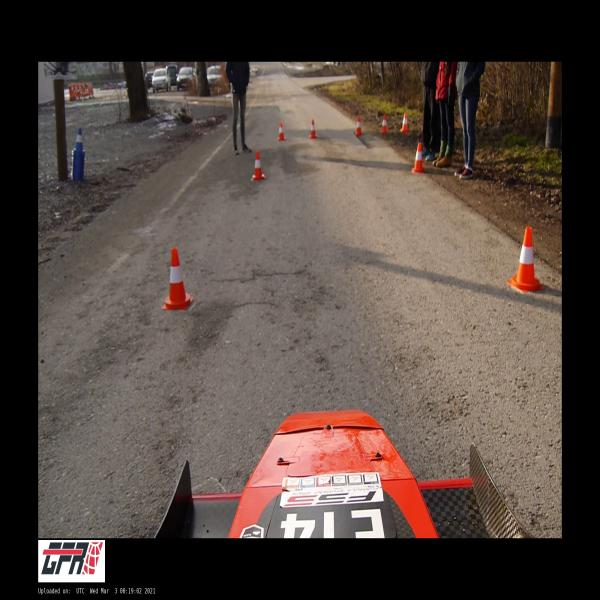blue_cone: (73, 127, 84, 151)
orange_cone: (508, 228, 544, 292), (162, 248, 193, 310), (412, 142, 425, 173), (252, 151, 265, 180), (400, 113, 409, 132), (309, 120, 317, 139), (355, 116, 363, 135), (278, 122, 286, 140), (381, 114, 388, 134)
